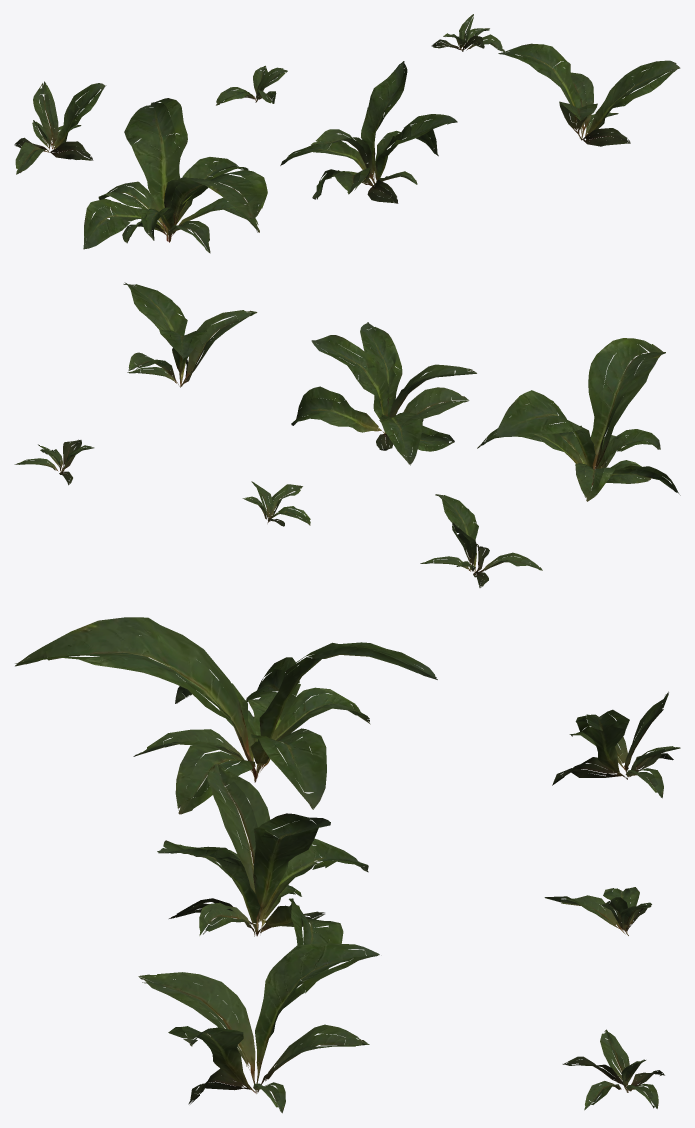
File: anthurium.glb
3 renders of one model, top to bottom at view 1: azimuth 30°, elevation 25°; view 2: azimuth 150°, elevation 25°; view 3: azimuth 270°, elevation 25°, orthographic. The views are drawn at different scales.
Parts seen in each view (by area): view 1: anthurium_botany_01_a; view 2: anthurium_botany_01_a; view 3: anthurium_botany_01_a.
Part boxes in pixels (x1,y1,x2,y2): anthurium_botany_01_a: (14, 14, 680, 253); anthurium_botany_01_a: (14, 282, 680, 587); anthurium_botany_01_a: (15, 617, 680, 1113).
Size of the model in its own units: 2.8 by 0.4994 by 1.8.
Materials: 1 (1 with a texture image).
